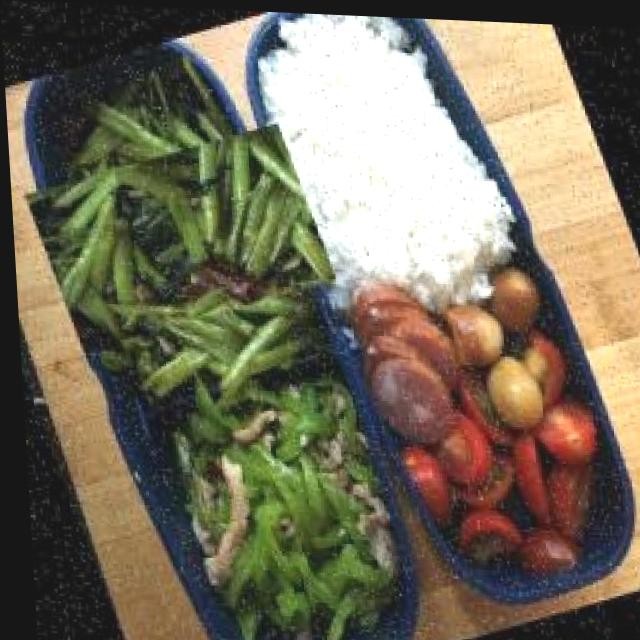rice: (255, 17, 488, 300)
water_spinach: (37, 96, 323, 379)
